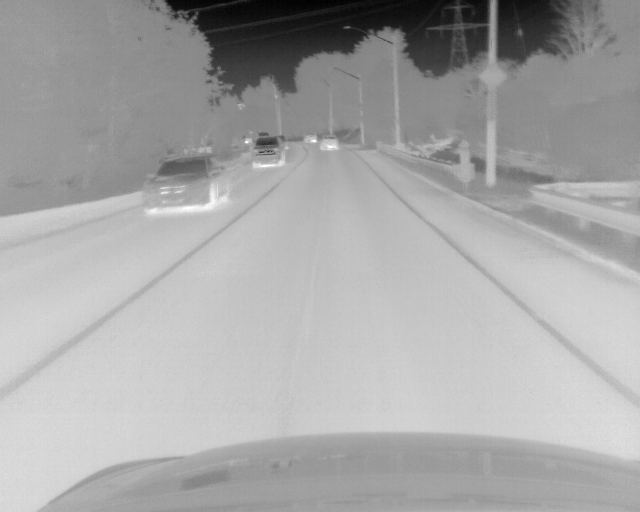car: (143, 154, 228, 213), (251, 138, 286, 169), (320, 133, 341, 154), (304, 131, 318, 145)
